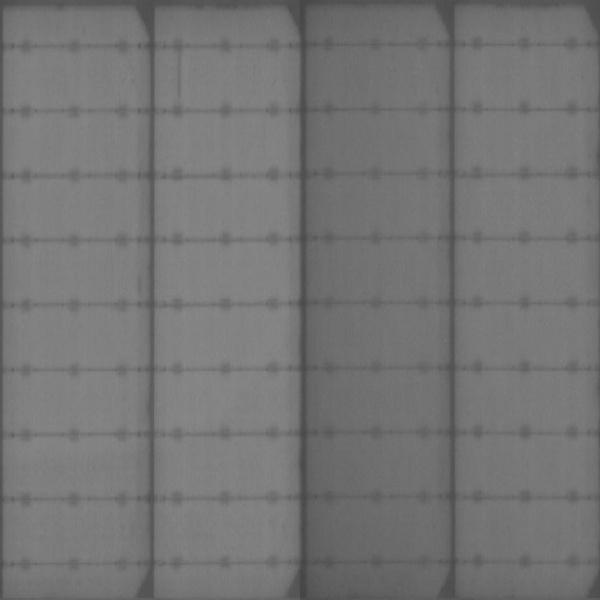scratch: (172, 39, 189, 104)
